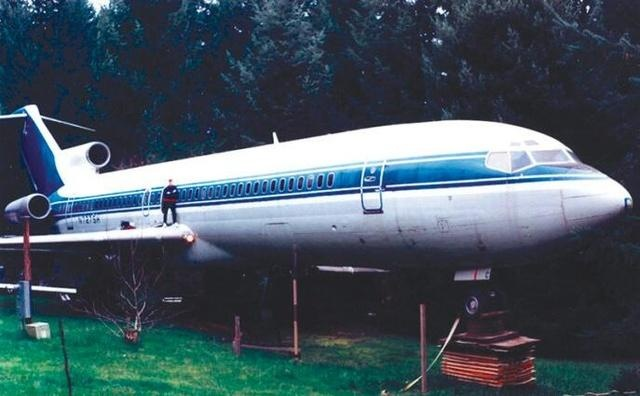airplane: (5, 103, 640, 323)
